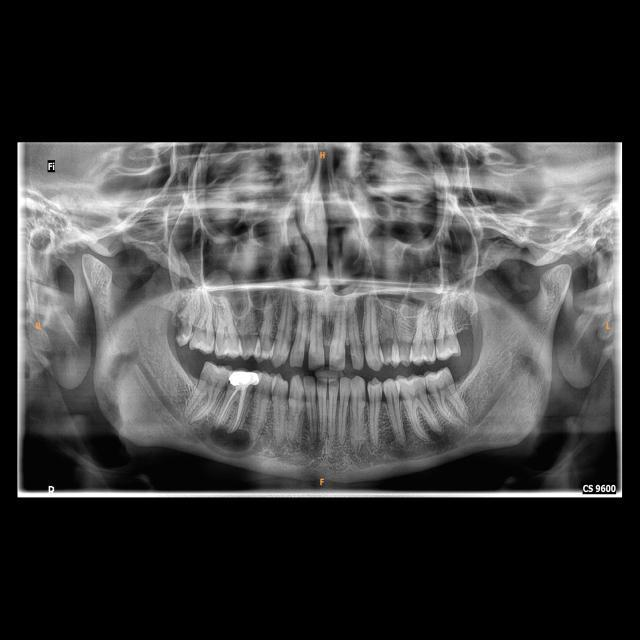dentin-curugu: (172, 310, 194, 346)
kanal-tedavisi: (222, 387, 248, 425)
kaplama: (227, 366, 258, 390)
kok-enfeksiyonu: (211, 418, 254, 456), (416, 427, 455, 448)
